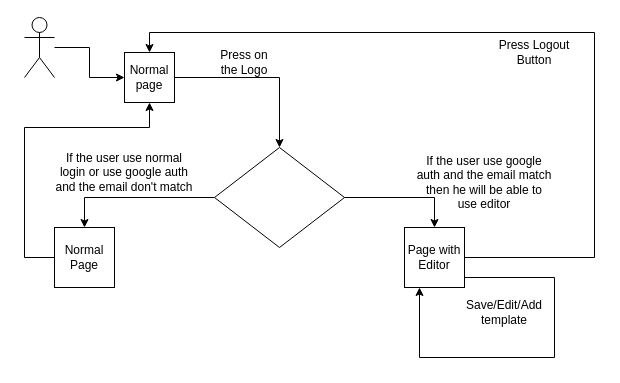
Some shapes in this 620 by 383 pixel diagram are drawn without their labels. The shapes that lost their labels are listed below. From the top down, each one's centre as x and y in pixels, then its label:
At [39,47]: "User".
At [279,197]: "Check the user email".
